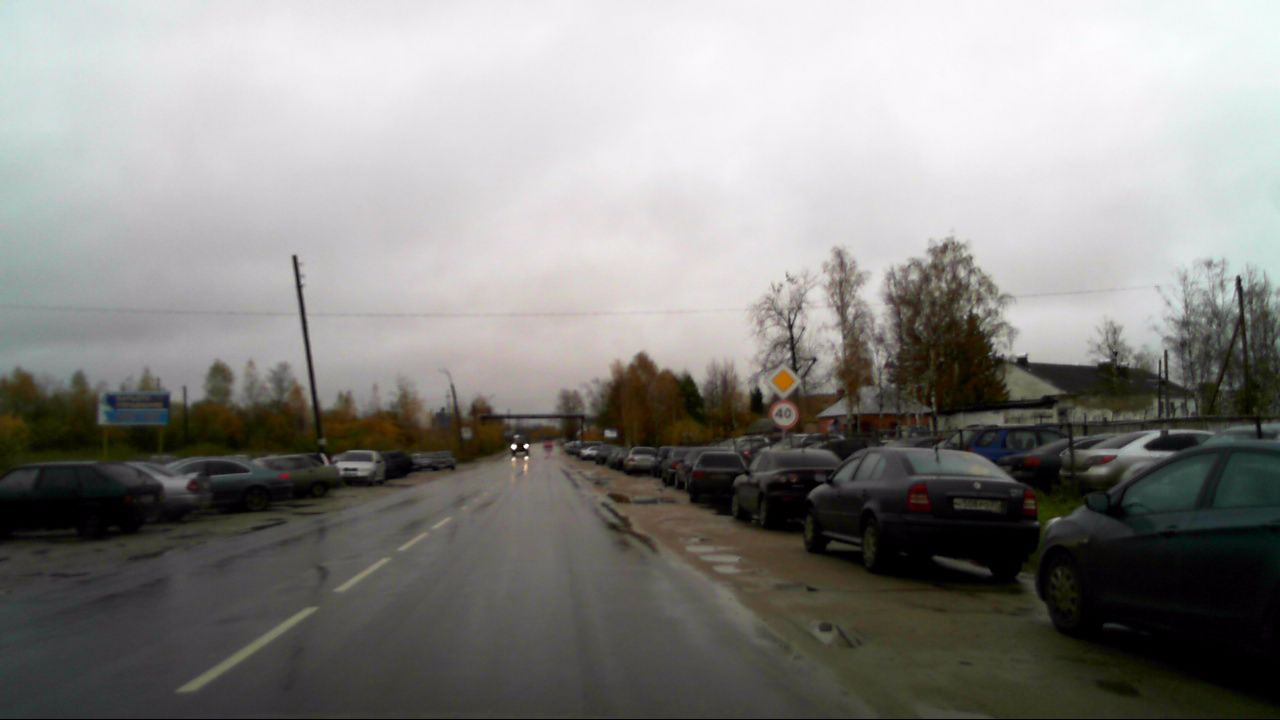speed_warning_40: (768, 398, 800, 429)
